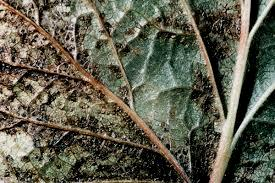Bok-Choy-Diseased: (2, 0, 275, 183)
